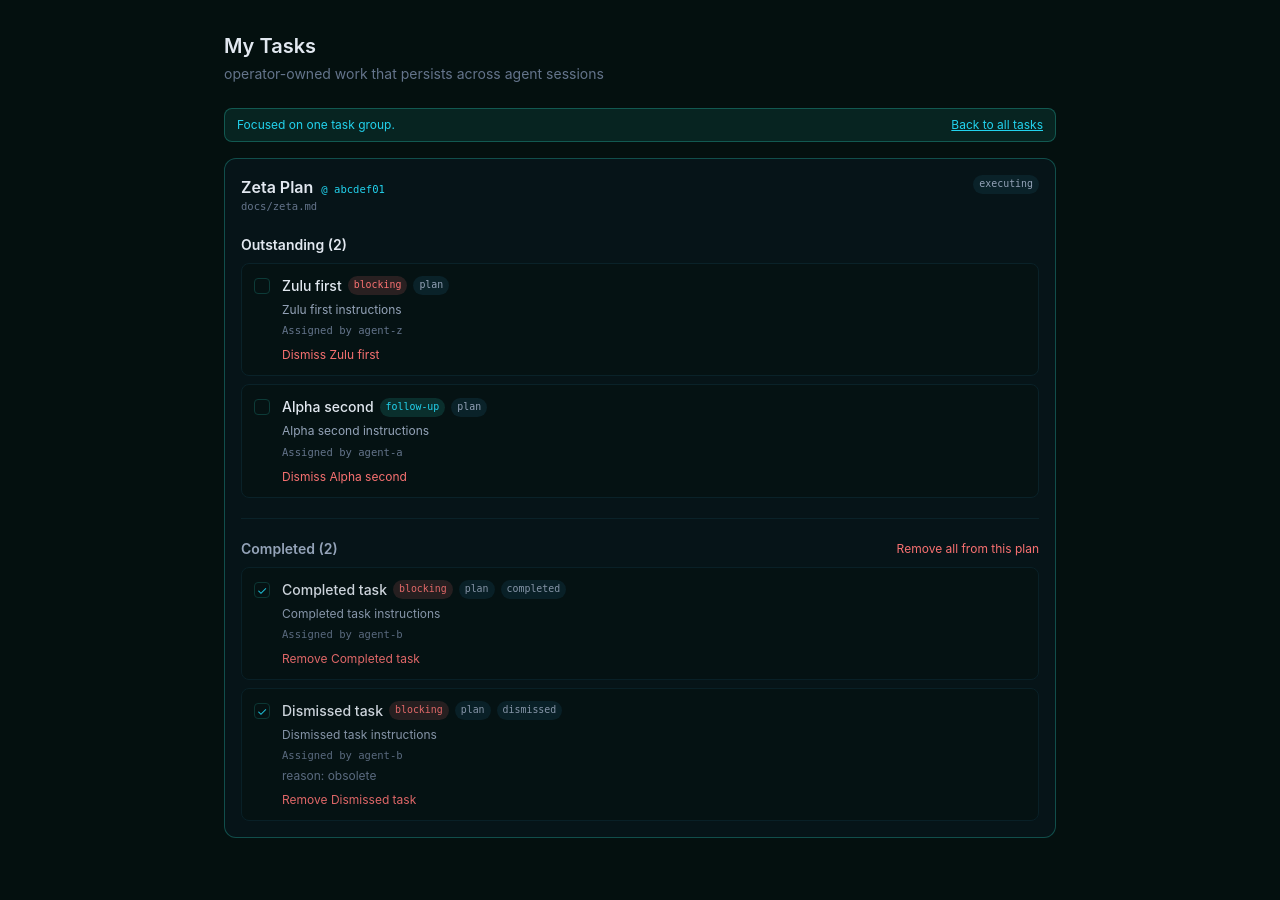
Scenario: MyTasks › dismisses a task while retaining plan focus
This screenshot has width=1280, height=900.
Step 1. Click the button "Dismiss Alpha second" → (344, 476), box [282,468,407,484]
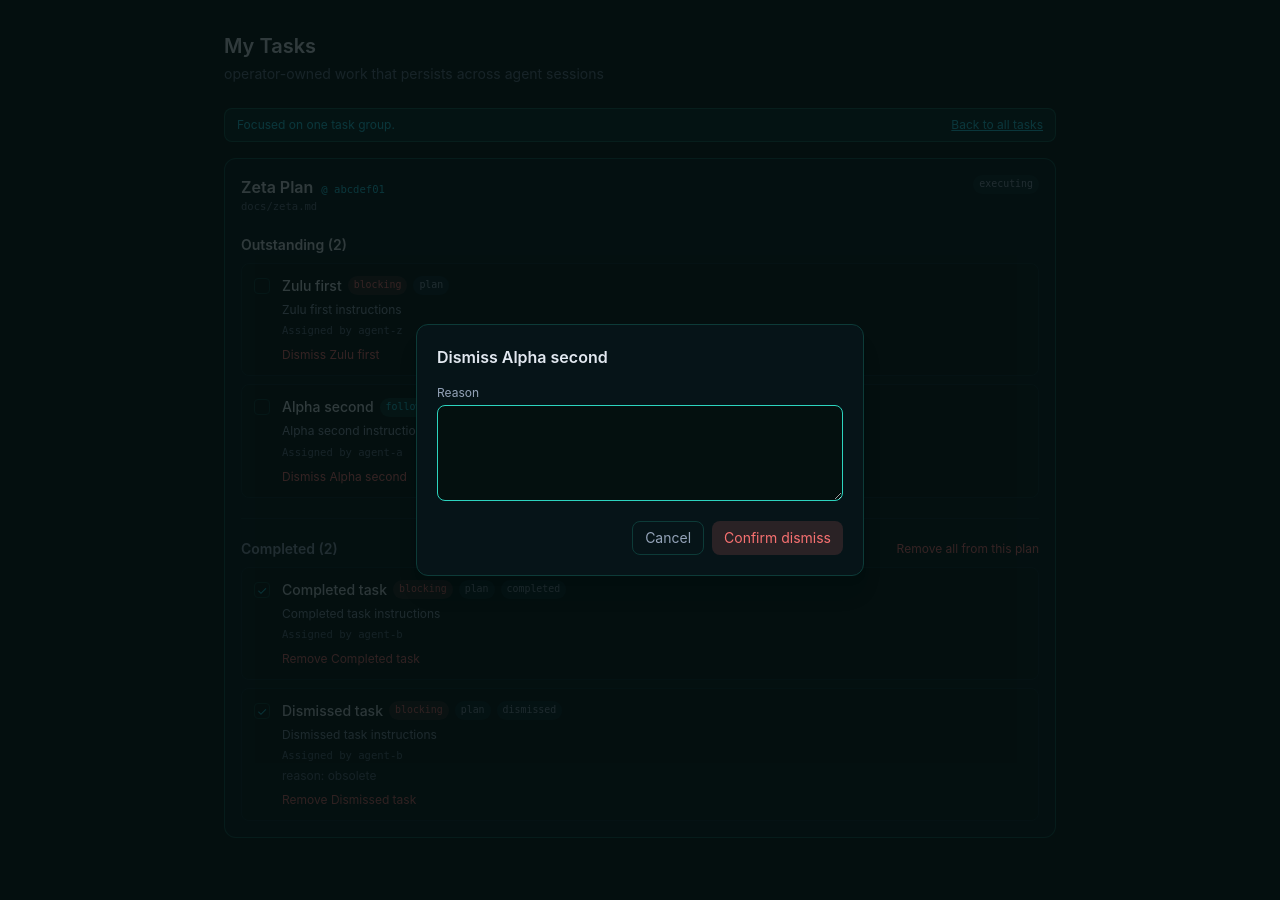
Step 2. Type "not required" into the text box labelled "Reason" → (640, 453), box [437,405,843,501]
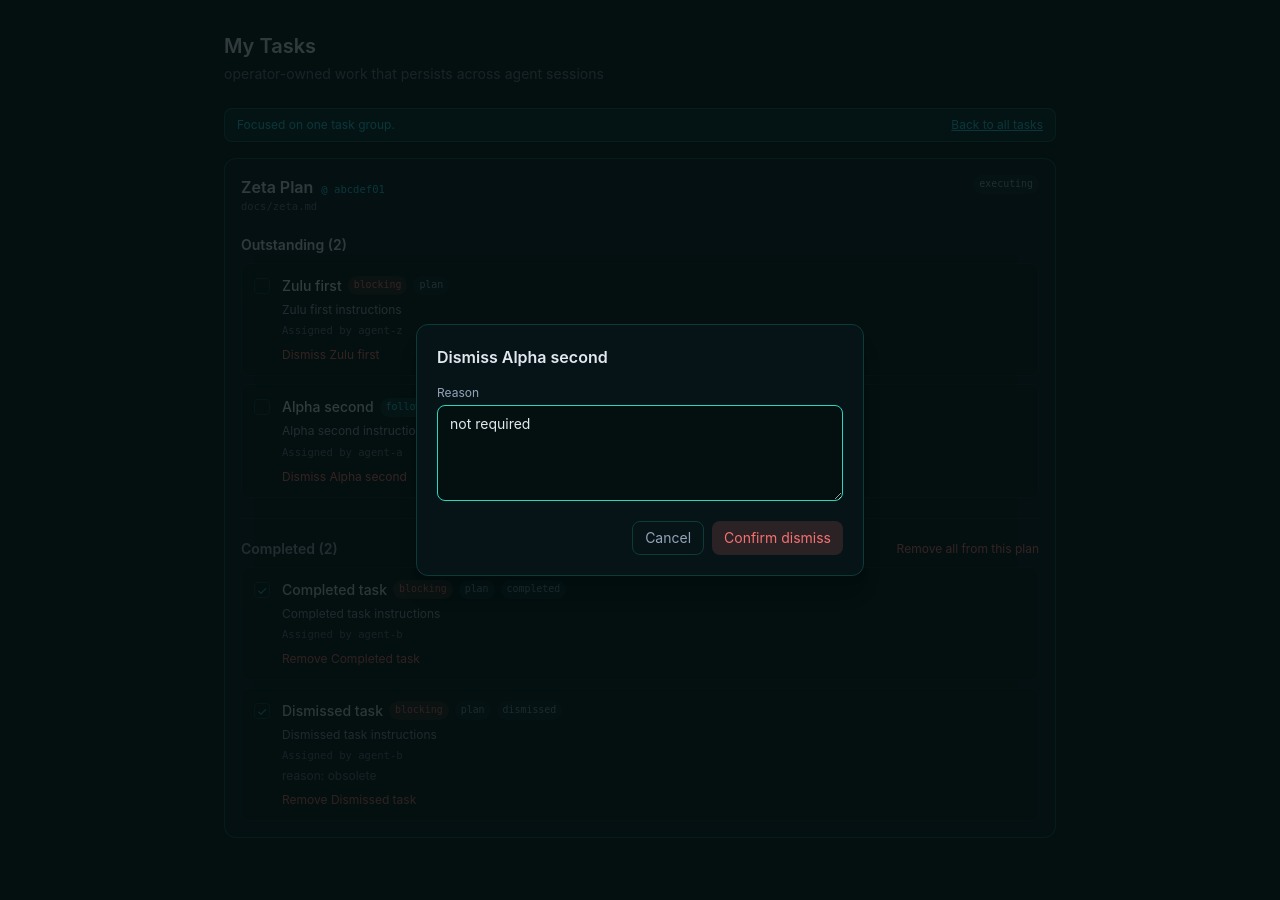
Step 3. Click the button "Confirm dismiss" → (778, 538), box [712,521,843,555]
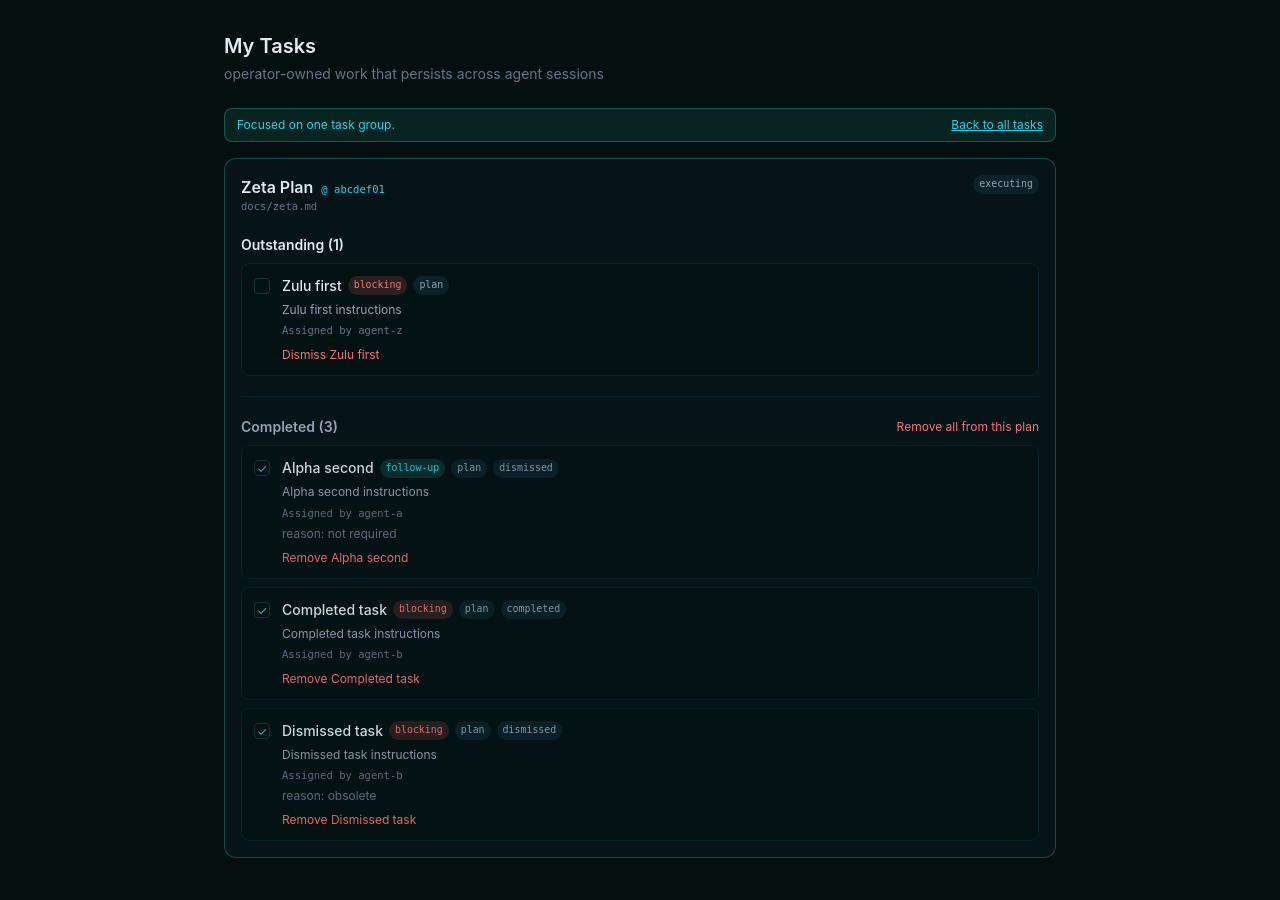
Expected: the checkbox named "Reopen Alpha second" is shown, [254,460,270,476]
Expected: the text "reason: not required" is shown, [282,526,396,540]
Expected: the heading "Outstanding (1)" is shown, [241,236,344,253]
